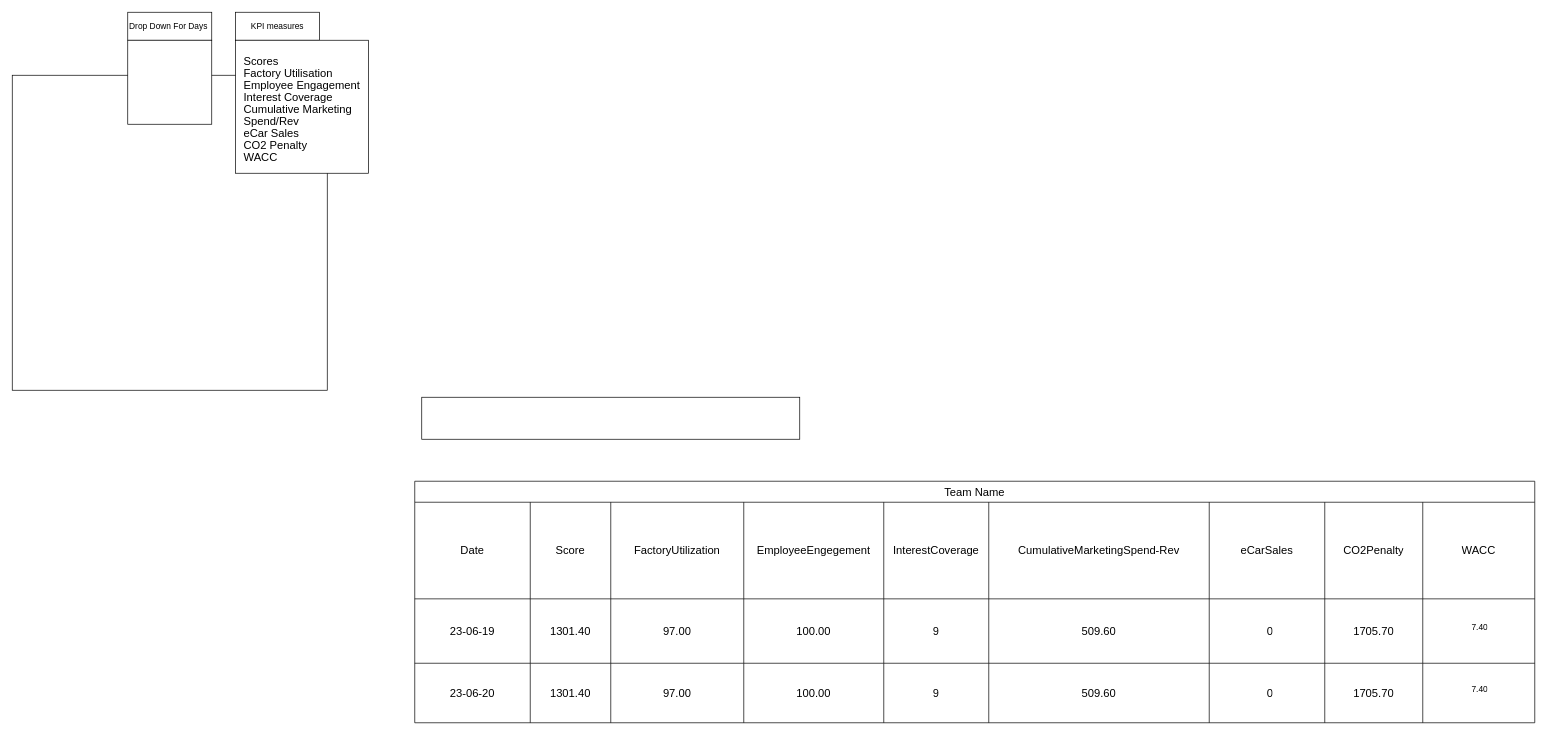
This 1547x735 diagram has some shape labels left out. The shapes that lost their labels are listed below. From the top down, each one's centre as x and y in pixels, then its label:
At (169,82): "Day 1 Day 2 Day 3 Day 4 Day 5 Day 6".
At (610,418): "List of Teams in order Or where team exists Rank-wise".
